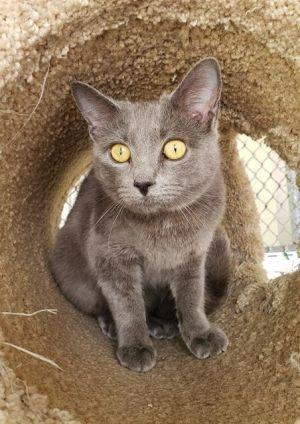rblue: (46, 35, 236, 222)
